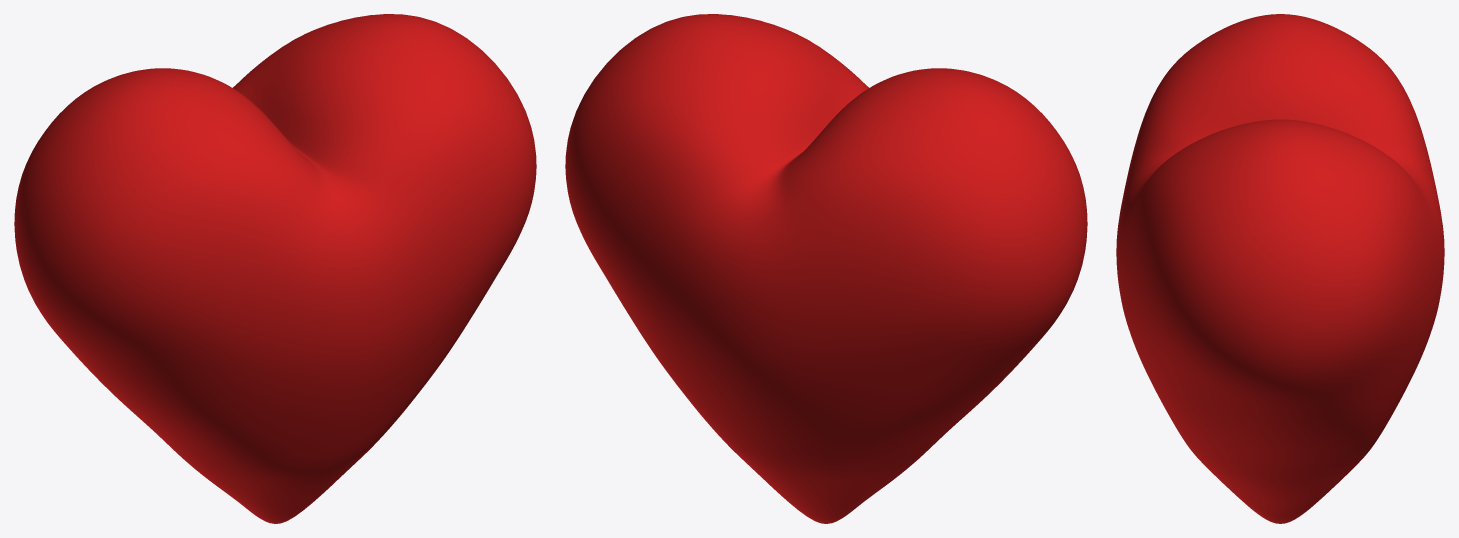
Rendered from asset.gltf.
3 views of the same model, side by side, from view 1: azimuth 30°, elevation 25°; view 2: azimuth 150°, elevation 25°; view 3: azimuth 270°, elevation 25° (orthographic). The views are drawn at different scales.
Parts seen in each view (by area): view 1: Cube; view 2: Cube; view 3: Cube.
Boxes of the visible parts, x1,y1,x2,y2 form: Cube: (14, 14, 536, 523); Cube: (565, 14, 1087, 523); Cube: (1116, 14, 1444, 523).
Size of the model in its own units: 8.15 by 7.55 by 5.06.
